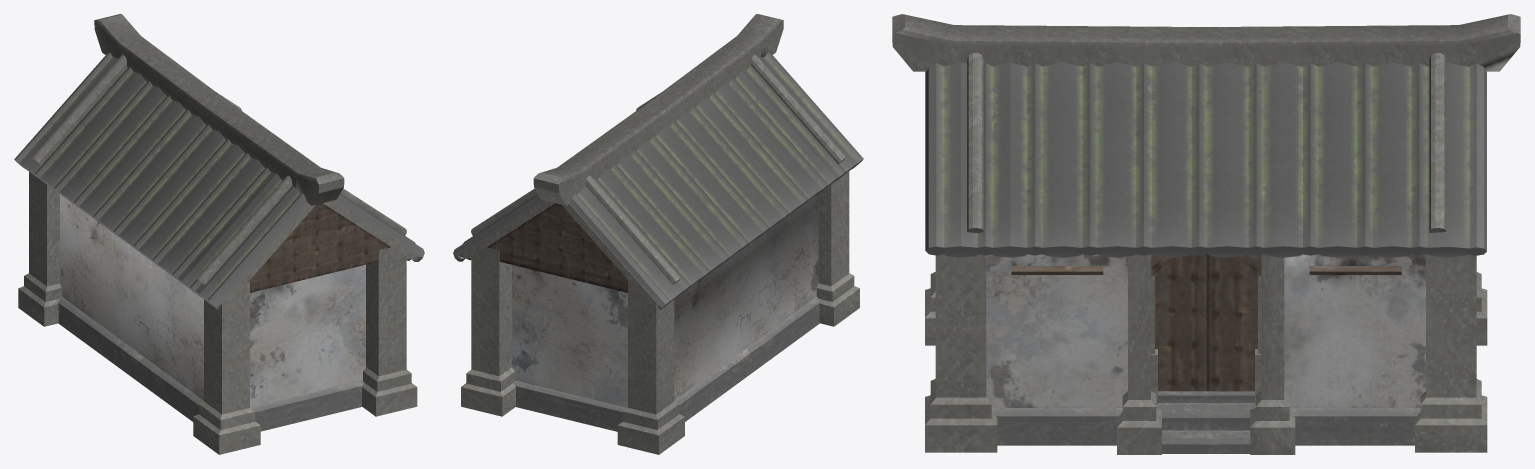
The model's file is house.glb.
3 renders of one model, left to right at view 1: azimuth 30°, elevation 25°; view 2: azimuth 150°, elevation 25°; view 3: azimuth 270°, elevation 25°, orthographic. The views are drawn at different scales.
Parts seen in each view (by area): view 1: qiangbi.001; view 2: qiangbi.001; view 3: qiangbi.001.
Part boxes in pixels (x1,y1,x2,y2): qiangbi.001: (14,14,424,454); qiangbi.001: (453,14,863,454); qiangbi.001: (892,14,1520,454).
Bounding box in the file's own units: 2.78 × 3.23 × 5.03.
1 material, 1 textured.
